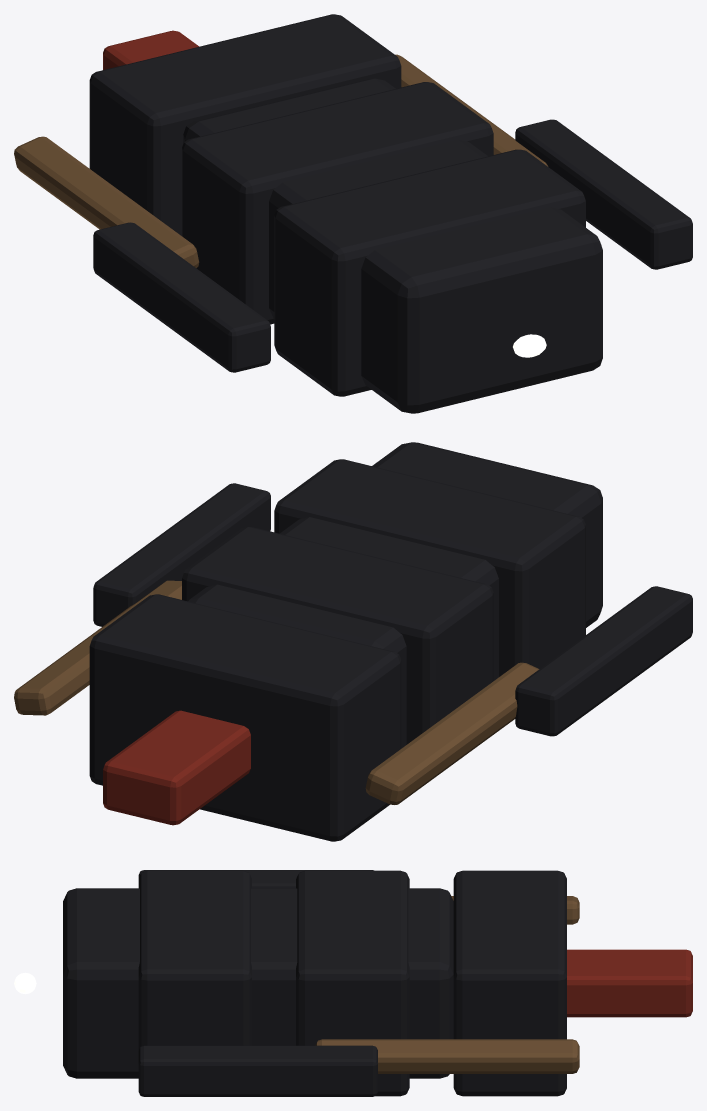
3 views of the same model, one above another, from view 1: azimuth 30°, elevation 25°; view 2: azimuth 150°, elevation 25°; view 3: azimuth 270°, elevation 25° (orthographic). The views are drawn at different scales.
Parts seen in each view (by area): view 1: RIMWARD_HULL, RIMWARD_ENGINE_GLOW; view 2: RIMWARD_HULL; view 3: RIMWARD_HULL, RIMWARD_ENGINE_GLOW.
Part boxes in pixels (x1,y1,x2,y2): RIMWARD_HULL: (14,14,692,413); RIMWARD_ENGINE_GLOW: (513,334,546,357); RIMWARD_HULL: (14,442,692,841); RIMWARD_HULL: (63,870,692,1096); RIMWARD_ENGINE_GLOW: (14,972,36,994).
Bounding box in the file's own units: 61.71 × 18.86 × 91.63.
